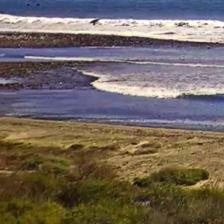surfer: (92, 18, 96, 26), (25, 3, 30, 7), (36, 3, 40, 7)
